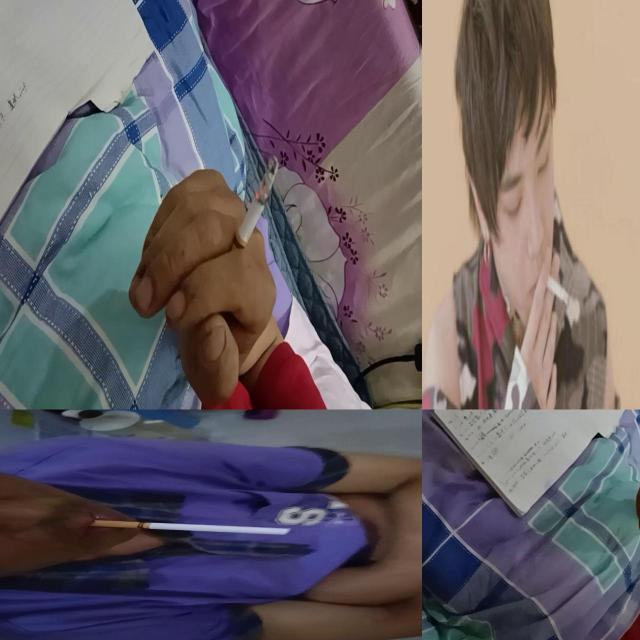smoking: (225, 154, 280, 274), (91, 520, 296, 536), (542, 270, 570, 308)
